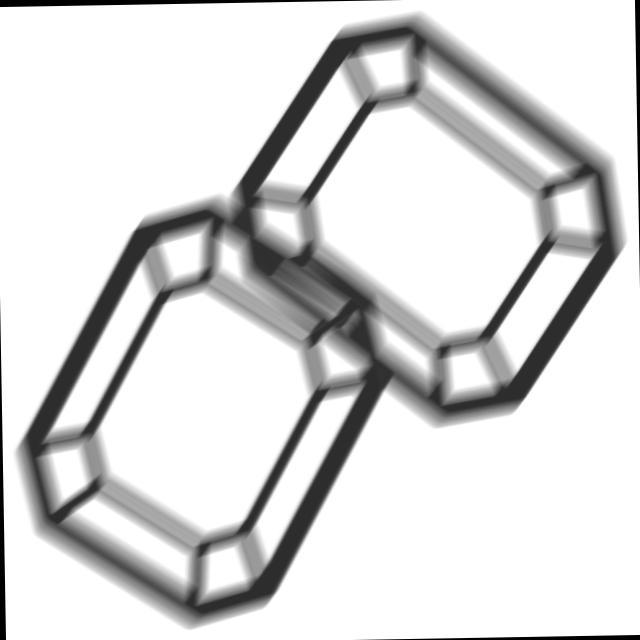emerald: (3, 182, 407, 632), (225, 3, 636, 442)
